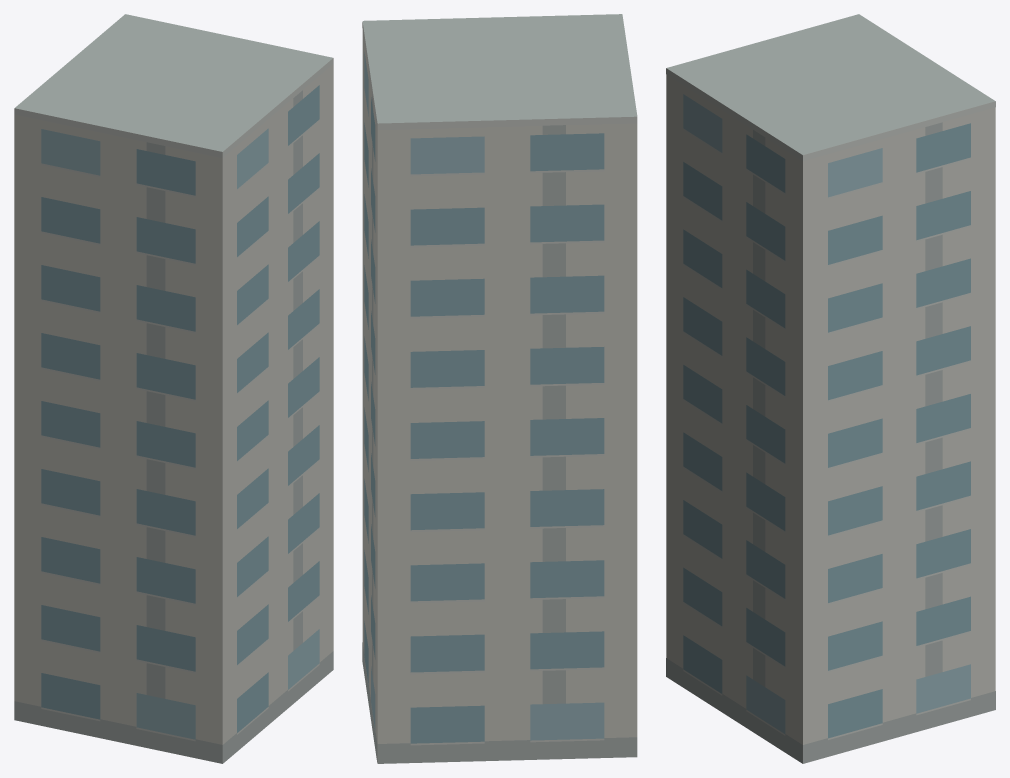
Rendered from residential-3bd527d2-3103-404f-bc23-dd45f5d45277.glb.
3 renders of one model, left to right at view 1: azimuth 30°, elevation 25°; view 2: azimuth 150°, elevation 25°; view 3: azimuth 270°, elevation 25°, orthographic. The views are drawn at different scales.
Parts seen in each view (by area): view 1: residential-3bd527d2-3103-404f-bc23-dd45f5d45277.tmp; view 2: residential-3bd527d2-3103-404f-bc23-dd45f5d45277.tmp; view 3: residential-3bd527d2-3103-404f-bc23-dd45f5d45277.tmp.
Boxes of the visible parts, <box> form: residential-3bd527d2-3103-404f-bc23-dd45f5d45277.tmp: <box>14,14,333,763</box>; residential-3bd527d2-3103-404f-bc23-dd45f5d45277.tmp: <box>362,14,637,763</box>; residential-3bd527d2-3103-404f-bc23-dd45f5d45277.tmp: <box>666,14,995,763</box>.
Size of the model in its own units: 11.95 by 24 by 11.79.
